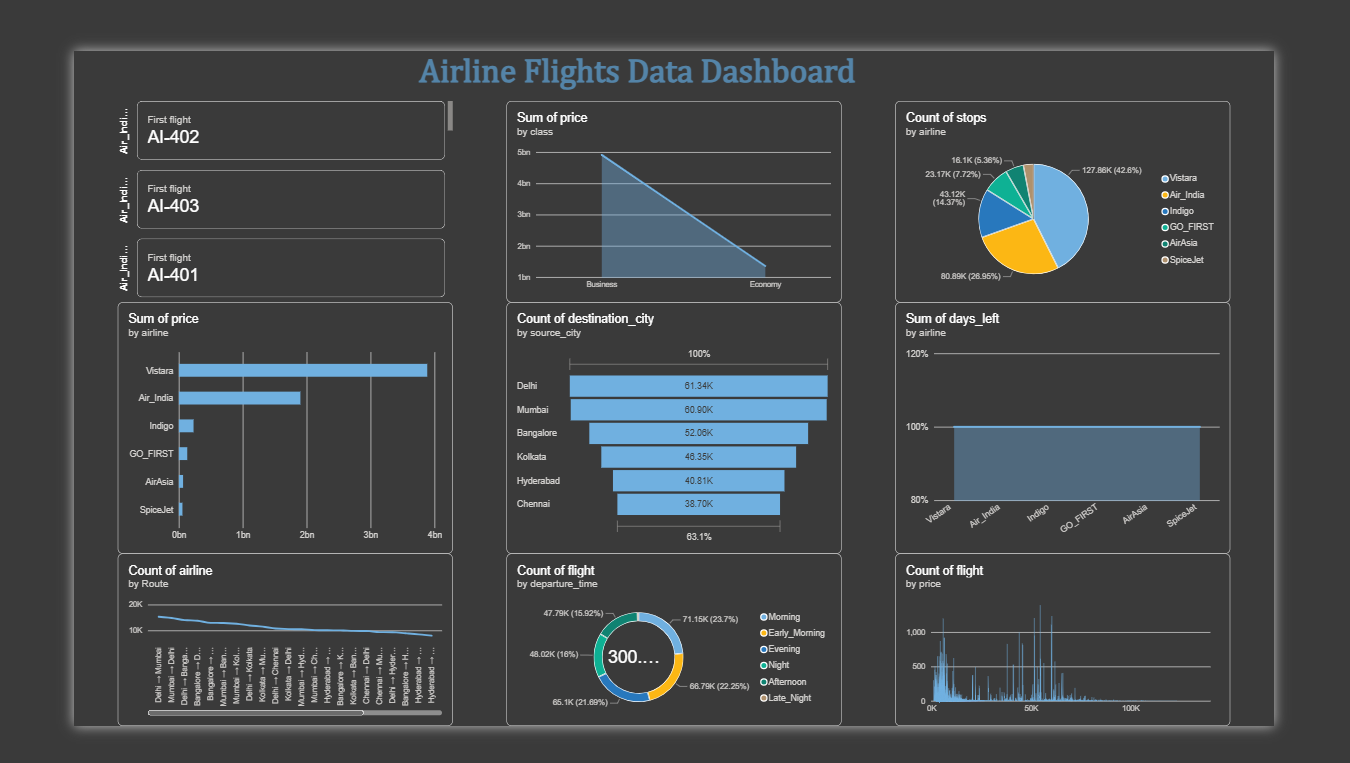

The page's visual inventory and layout, read from the dashboard file:
{"tool":"powerbi","page":{"name":"Page 1","canvas":[1920,1080],"ordinal":0},"visuals":[{"type":"cardVisual","fields":{"Data":["Min(airlines_flights_data.flight)"],"Rows":["airlines_flights_data.airline","airlines_flights_data.arrival_time"]},"box":[70,80,536,322],"z":0},{"type":"barChart","fields":{"Category":["airlines_flights_data.airline"],"Y":["Sum(airlines_flights_data.price)"]},"box":[70,402,536,402],"z":1000},{"type":"lineChart","fields":{"Category":["airlines_flights_data.Route"],"Y":["CountNonNull(airlines_flights_data.airline)"]},"box":[70,804,536,276],"z":2000},{"type":"areaChart","fields":{"Category":["airlines_flights_data.class"],"Y":["Sum(airlines_flights_data.price)"]},"box":[692,80,536,322],"z":3000},{"type":"funnel","fields":{"Category":["airlines_flights_data.source_city"],"Y":["CountNonNull(airlines_flights_data.destination_city)"]},"box":[692,402,536,402],"z":4000},{"type":"donutChart","fields":{"Category":["airlines_flights_data.departure_time"],"Y":["CountNonNull(airlines_flights_data.flight)"]},"box":[692,804,536,276],"z":5000},{"type":"pieChart","fields":{"Category":["airlines_flights_data.airline"],"Y":["CountNonNull(airlines_flights_data.stops)"]},"box":[1314,80,536,322],"z":6000},{"type":"hundredPercentStackedAreaChart","fields":{"Category":["airlines_flights_data.airline"],"Y":["Sum(airlines_flights_data.days_left)"]},"box":[1314,402,536,402],"z":7000},{"type":"ribbonChart","fields":{"Category":["airlines_flights_data.price"],"Y":["CountNonNull(airlines_flights_data.flight)"]},"box":[1314,804,536,276],"z":8000},{"type":"textbox","box":[100,100,300,300],"z":9000},{"type":"textbox","box":[526,0,1358,80],"z":9001},{"type":"textbox","box":[100,100,300,300],"z":9002}]}

Visuals, with their boxes in screenshot pixels (x1, y1, x2, y2), scaled from the page's 1920x1080 canvas onto the 1350x763 screenshot:
cardVisual - Min(airlines_flights_data.flight) x airlines_flights_data.airline: bbox=(49, 57, 426, 284)
barChart - airlines_flights_data.airline x Sum(airlines_flights_data.price): bbox=(49, 284, 426, 568)
lineChart - airlines_flights_data.Route x CountNonNull(airlines_flights_data.airline): bbox=(49, 568, 426, 762)
areaChart - airlines_flights_data.class x Sum(airlines_flights_data.price): bbox=(487, 57, 863, 284)
funnel - airlines_flights_data.source_city x CountNonNull(airlines_flights_data.destination_city): bbox=(487, 284, 863, 568)
donutChart - airlines_flights_data.departure_time x CountNonNull(airlines_flights_data.flight): bbox=(487, 568, 863, 762)
pieChart - airlines_flights_data.airline x CountNonNull(airlines_flights_data.stops): bbox=(924, 57, 1301, 284)
hundredPercentStackedAreaChart - airlines_flights_data.airline x Sum(airlines_flights_data.days_left): bbox=(924, 284, 1301, 568)
ribbonChart - airlines_flights_data.price x CountNonNull(airlines_flights_data.flight): bbox=(924, 568, 1301, 762)
textbox: bbox=(70, 71, 281, 283)
textbox: bbox=(370, 0, 1325, 57)
textbox: bbox=(70, 71, 281, 283)
